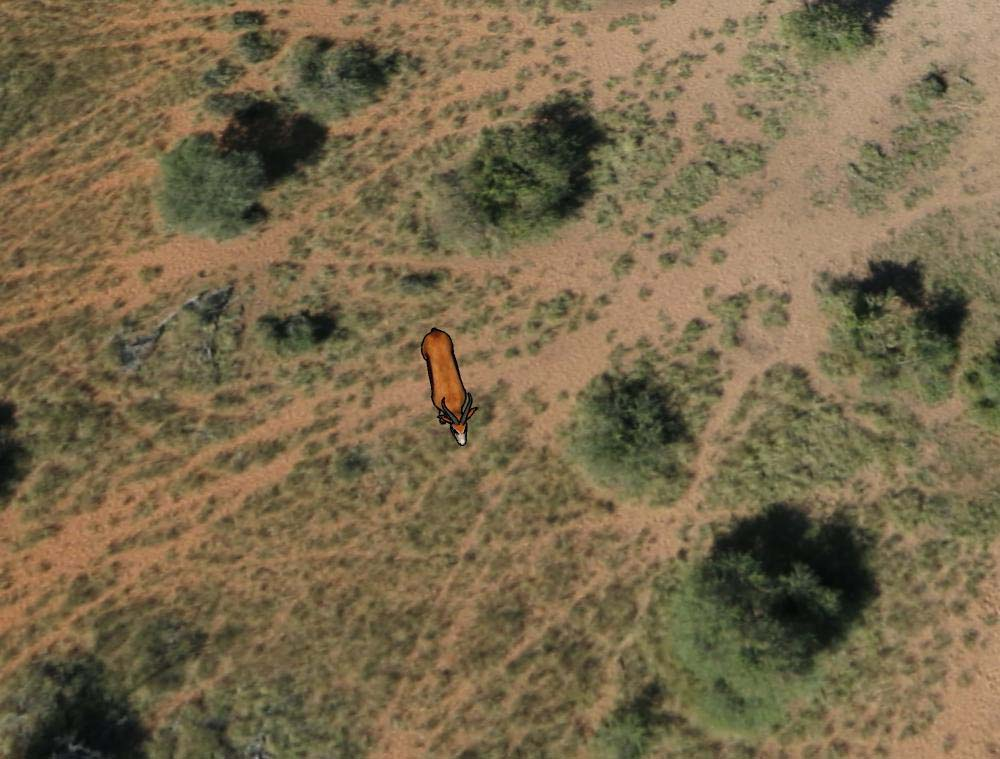springbok: (412, 322, 481, 449)
